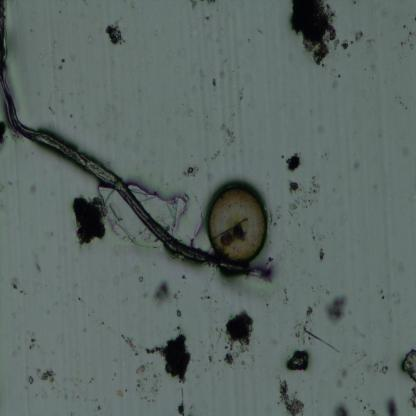Background material: (287, 0, 351, 71), (146, 334, 192, 385), (72, 194, 109, 251), (138, 187, 188, 229), (222, 308, 257, 367), (285, 177, 324, 216), (202, 322, 226, 376), (133, 363, 164, 404), (291, 306, 319, 348), (275, 375, 304, 415), (390, 18, 416, 62), (400, 342, 416, 409), (324, 296, 352, 327), (150, 280, 176, 309), (284, 347, 310, 374), (62, 376, 87, 404), (200, 281, 222, 308), (121, 334, 143, 358), (105, 22, 126, 46), (390, 92, 412, 114), (36, 365, 56, 388), (364, 360, 392, 376), (194, 64, 210, 92), (220, 122, 238, 146), (277, 232, 293, 259), (48, 35, 62, 62), (326, 67, 342, 89), (284, 153, 300, 175), (384, 394, 400, 415), (93, 312, 111, 330), (271, 202, 284, 226), (315, 146, 333, 163), (312, 226, 327, 246), (176, 386, 186, 416), (181, 164, 201, 179), (0, 114, 9, 146), (10, 276, 24, 296), (110, 271, 125, 289), (332, 401, 351, 415), (402, 139, 414, 160), (366, 178, 381, 194), (24, 179, 40, 193), (366, 35, 382, 49), (56, 51, 65, 75), (235, 84, 244, 106), (48, 83, 61, 98), (208, 148, 221, 163), (32, 259, 43, 275), (282, 287, 290, 308), (72, 292, 84, 306), (176, 46, 187, 60), (27, 334, 36, 350), (115, 386, 126, 399), (47, 100, 57, 114), (184, 105, 196, 116), (128, 1, 140, 12), (353, 30, 362, 44), (85, 35, 96, 46), (199, 14, 213, 22), (255, 24, 265, 35), (370, 66, 379, 78), (318, 246, 325, 261), (212, 75, 219, 90), (316, 126, 326, 136), (78, 324, 89, 332), (355, 160, 362, 172), (29, 25, 36, 37), (204, 0, 214, 8), (174, 309, 182, 319), (221, 72, 229, 81), (28, 374, 34, 386), (174, 293, 180, 304), (36, 90, 43, 99), (138, 274, 144, 284), (97, 403, 103, 413), (181, 271, 186, 283), (68, 89, 74, 98), (280, 151, 286, 159), (137, 131, 143, 139), (190, 0, 196, 7), (69, 112, 73, 121), (61, 99, 65, 105)
Cellulose filter fibre: (1, 0, 210, 265)
Diatom: (206, 186, 268, 263)
